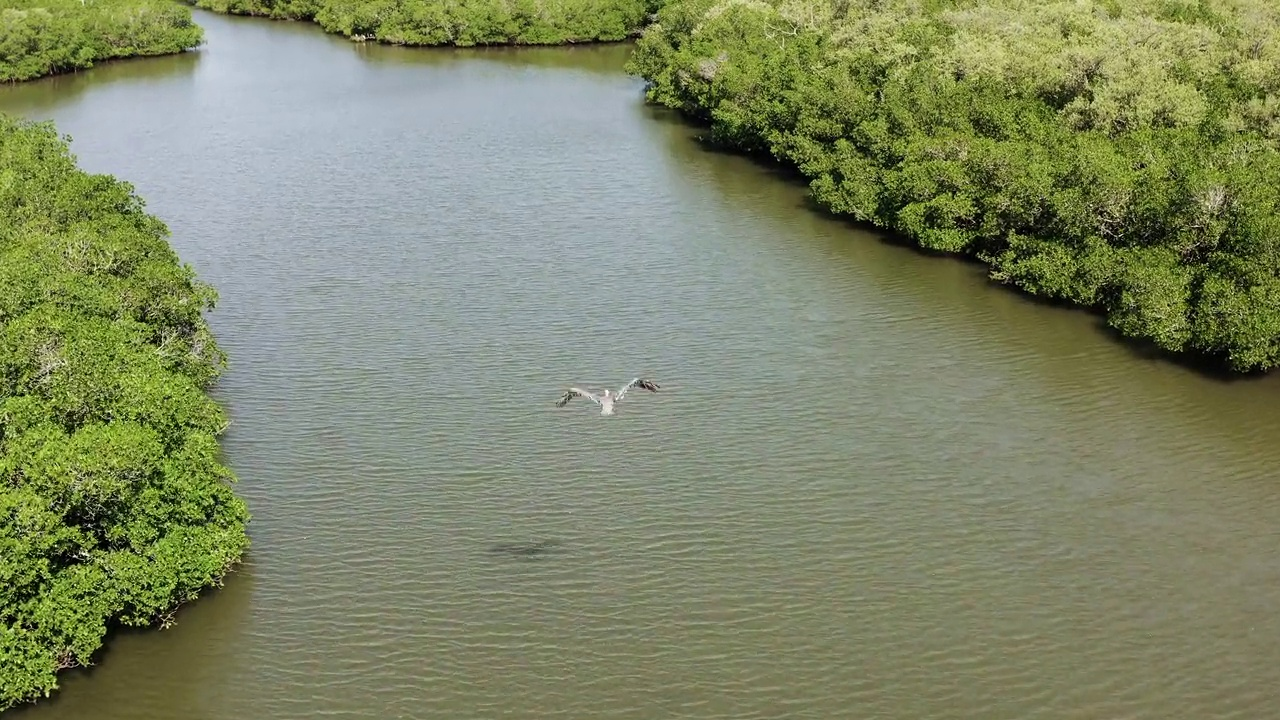bird: (556, 376, 658, 417)
